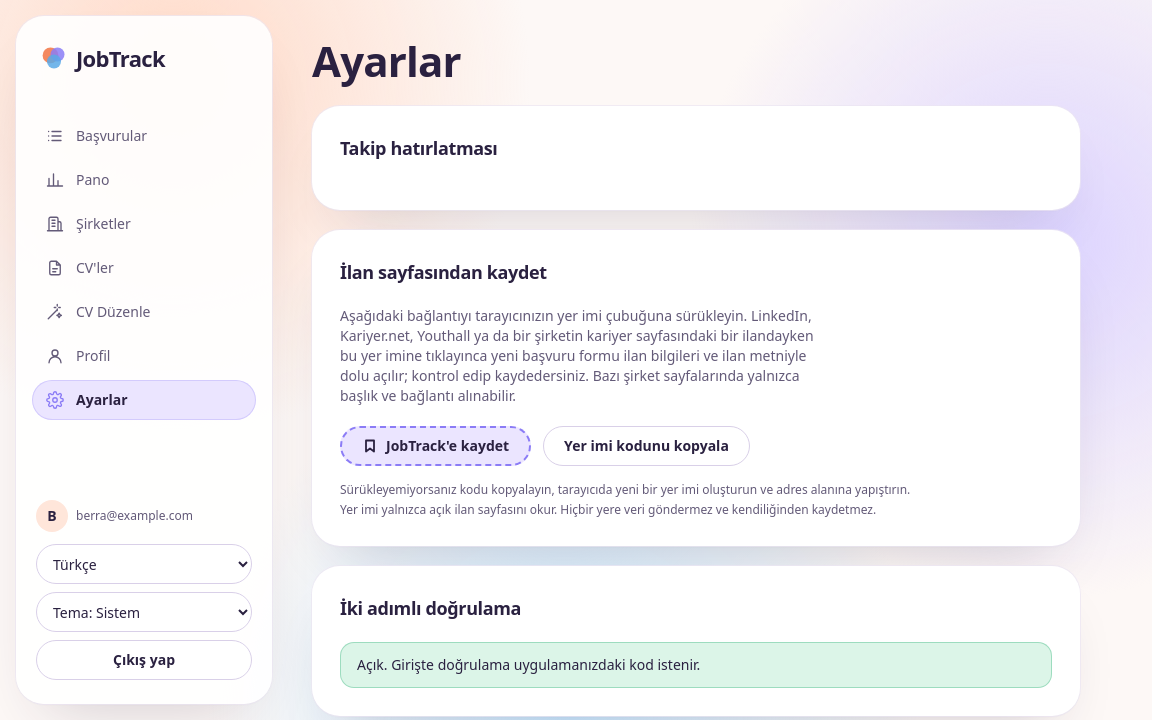
Test case: Ayarlar: LinkedIn yer imi (FR-22) › sürüklenebilir bağlantıya uygulamanın kökenini gömer ve burada çalıştırmaz
What coordinates should you click on to do the following:
click the link "JobTrack'e kaydet"
I would click on:
 (436, 446)
Its box is [340,426,531,466].
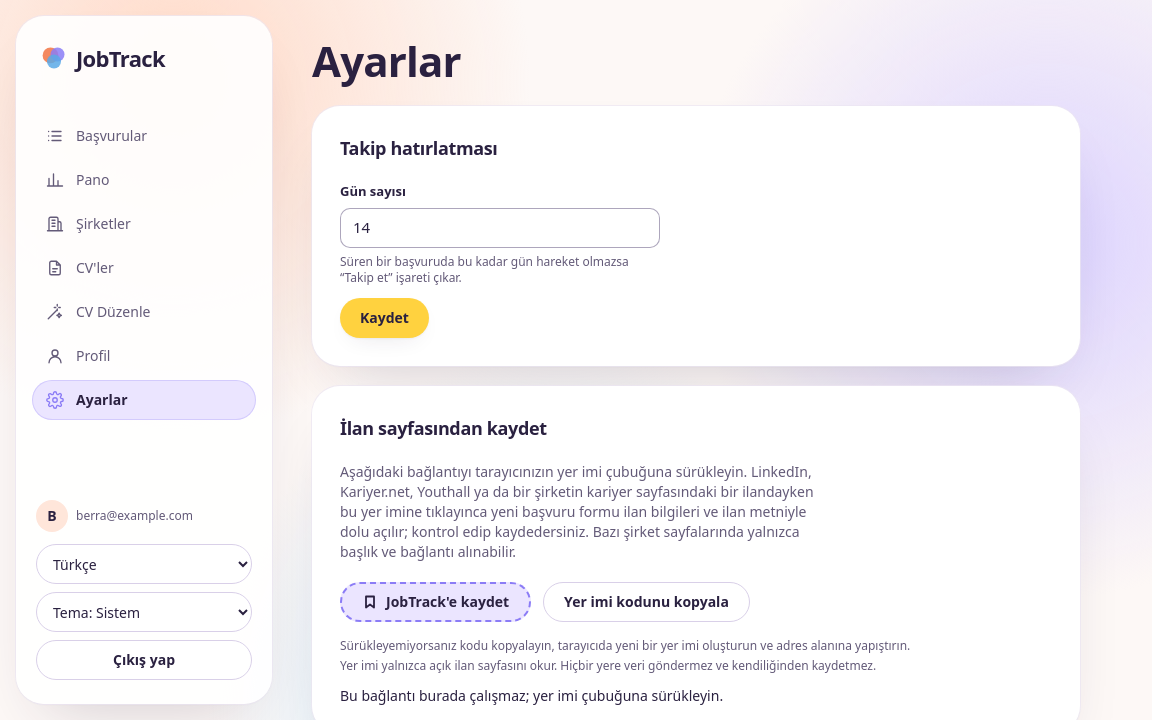
Expected: the text "Bu bağlantı burada çalışmaz; yer imi çubuğuna sürükleyin." is shown, [340,686,723,704]
